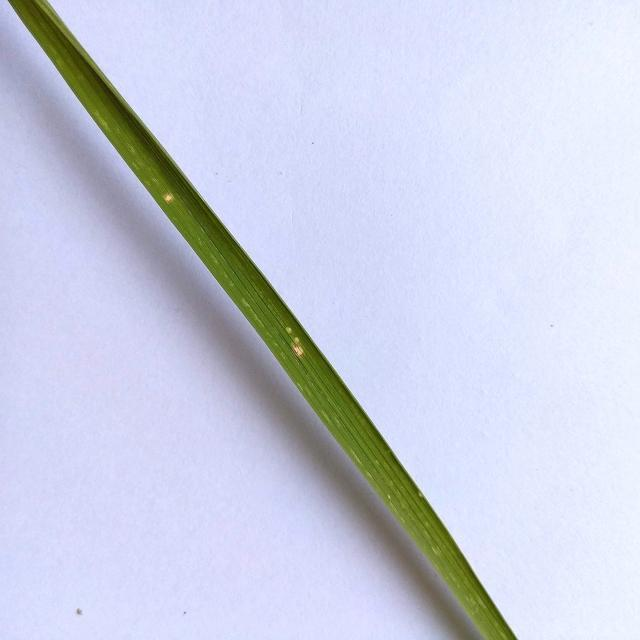Blast: (282, 325, 312, 363), (158, 190, 189, 208)
